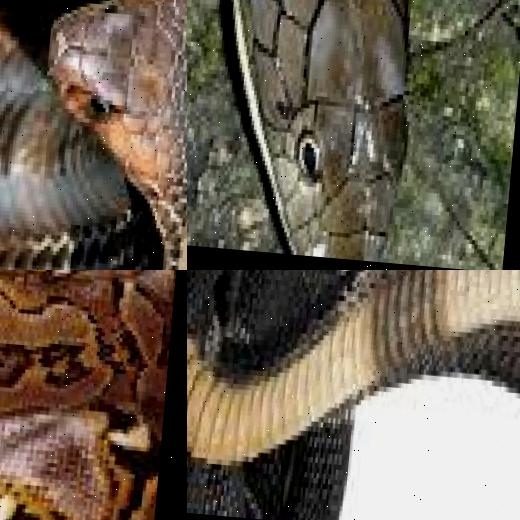snake: (187, 270, 520, 520), (187, 0, 440, 264), (0, 0, 187, 270), (0, 270, 187, 520)
